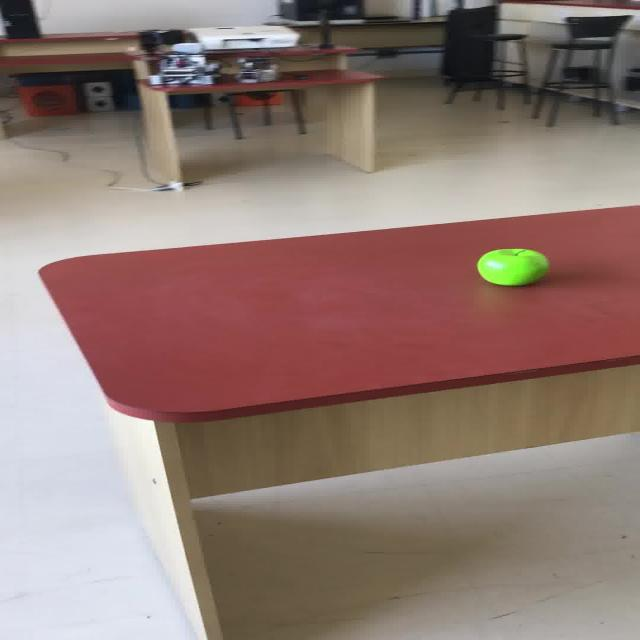apple: (475, 247, 548, 286)
